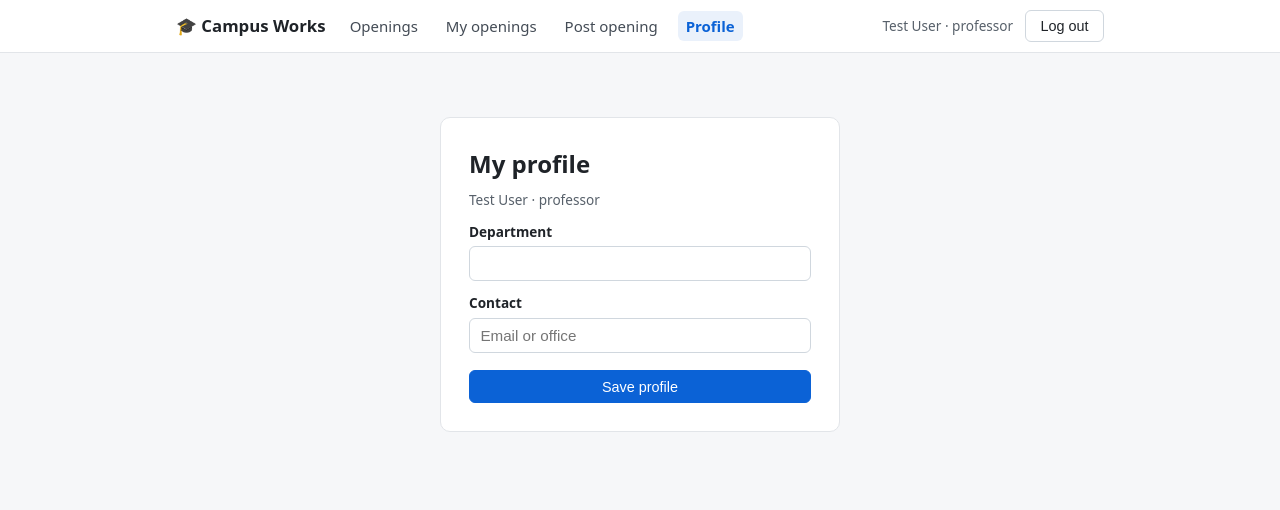
Test: professor form asks for department and sends only professor fields
Step 1. Click the button "Save profile" → (640, 386), box 469,370 -> 811,403
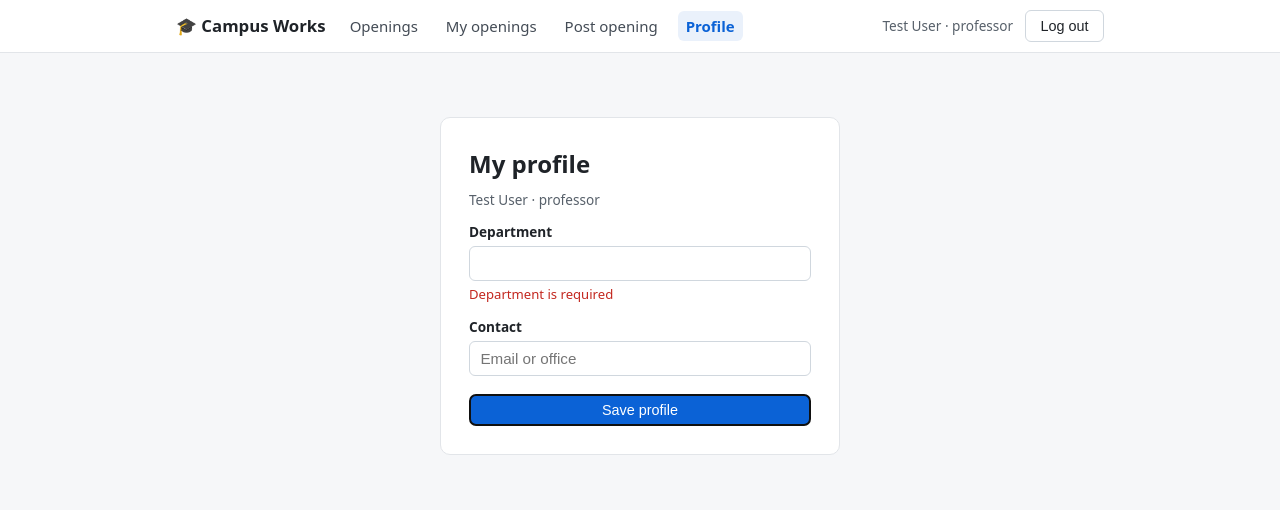
Now the text "Department is required" is shown, box 469,285 -> 613,303
Step 2. Type "Mathematics" into the field labelled "Department" → (640, 264), box 469,246 -> 811,281
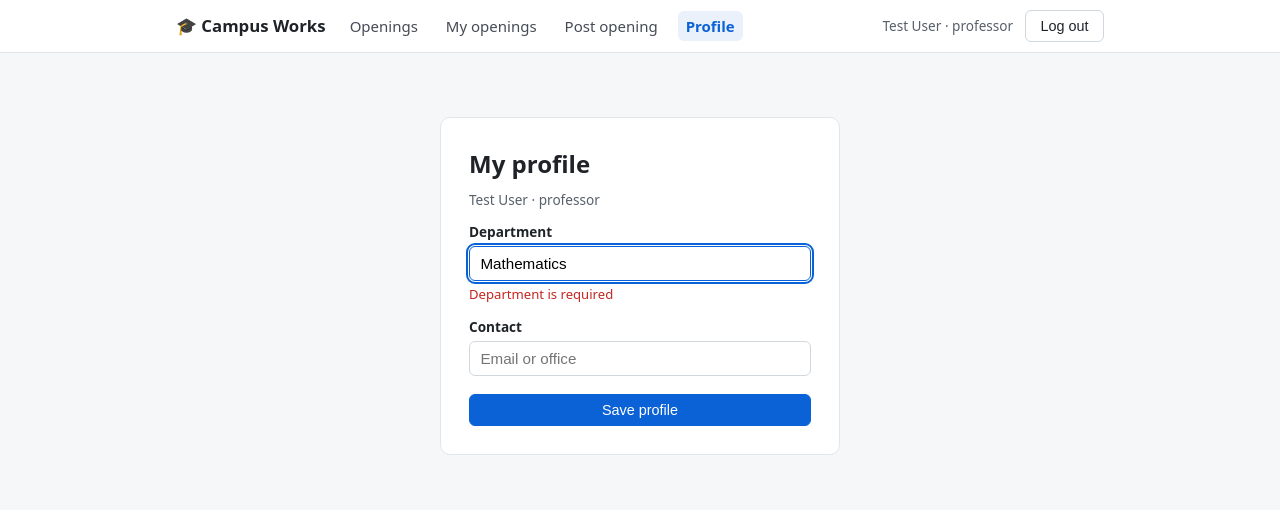
Step 3. Type "room 101" into the field labelled "Contact" → (640, 359), box 469,341 -> 811,376
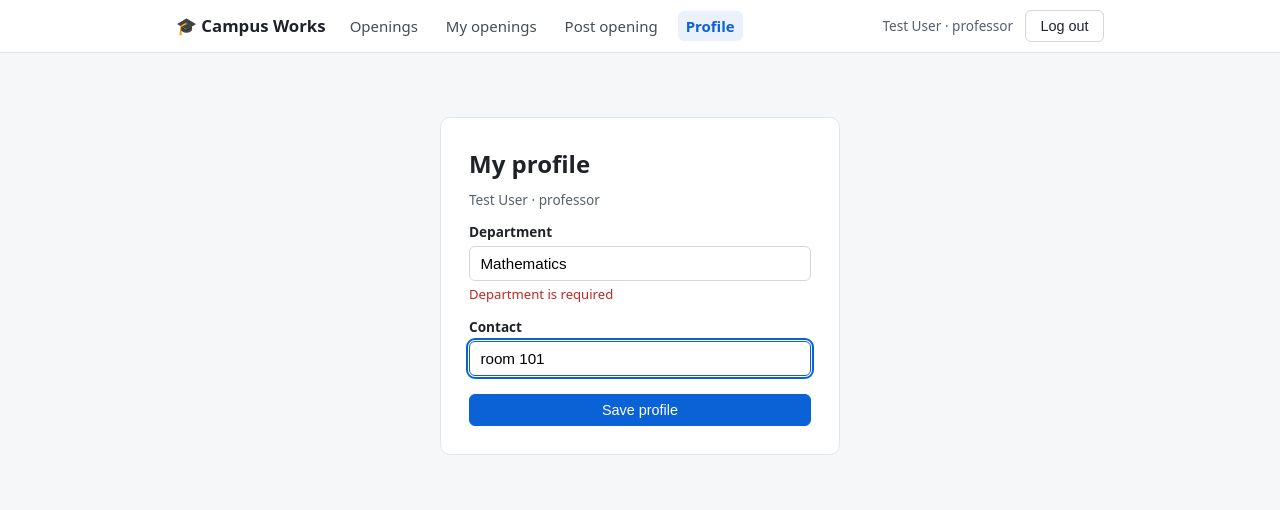
Step 4. Click the button "Save profile" → (640, 410), box 469,394 -> 811,426
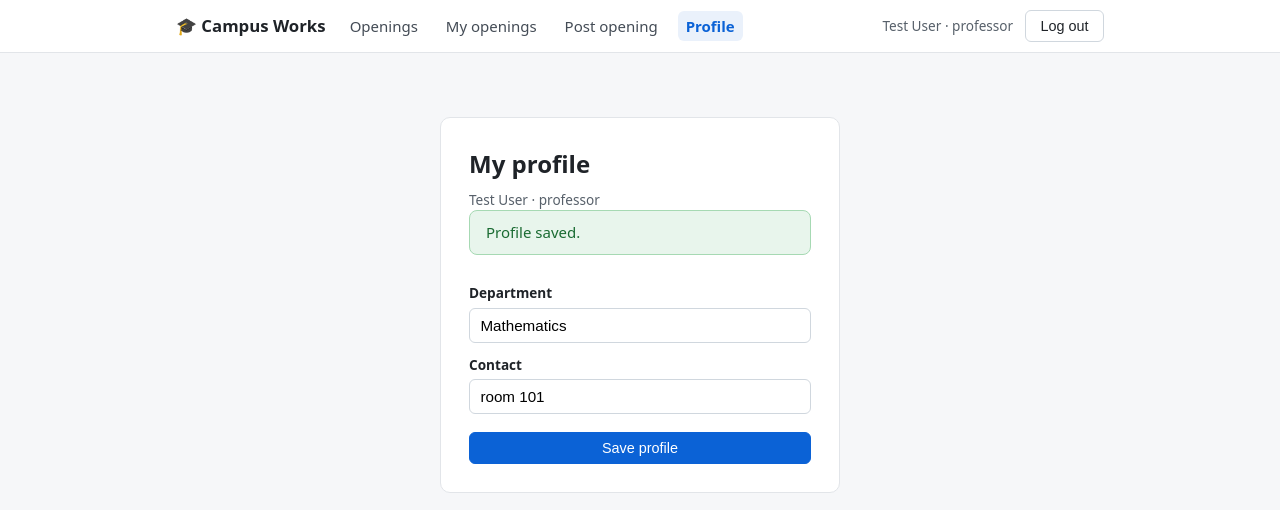
Now the message reads "Profile saved.", box 486,222 -> 580,242
